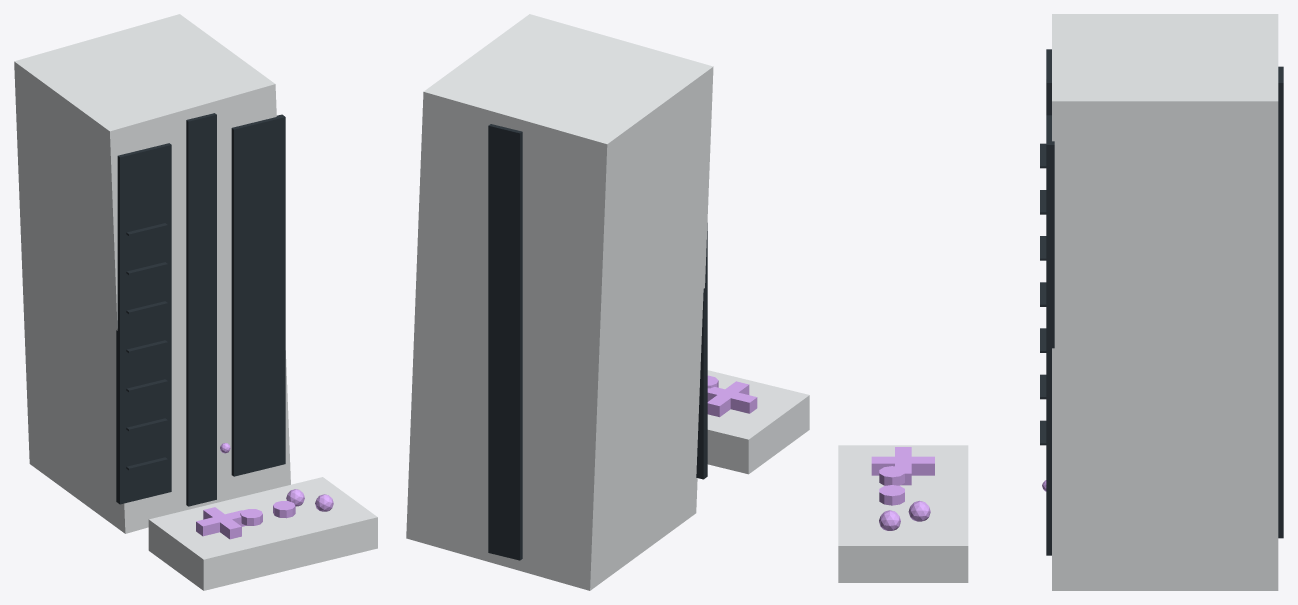
Rendered from current-console-lod0.glb.
The picture shows the model from 3 angles, left to right: view 1: azimuth 30°, elevation 25°; view 2: azimuth 150°, elevation 25°; view 3: azimuth 270°, elevation 25°; orthographic projection. The views are drawn at different scales.
Parts seen in each view (by area): view 1: console, vent_right, vent_left, controller_body, center_spine, controller_dpad_h, controller_dpad_v; view 2: console, center_spine, controller_body, vent_left, controller_dpad_h, controller_dpad_v; view 3: console, controller_body, vent_right, center_spine, controller_dpad_v.
Boxes of the visible parts, x1=… form: console: x1=14, y1=14, x2=290, y2=533; vent_right: x1=231, y1=114, x2=285, y2=476; vent_left: x1=116, y1=143, x2=171, y2=504; controller_body: x1=148, y1=477, x2=377, y2=590; center_spine: x1=186, y1=113, x2=216, y2=506; controller_dpad_h: x1=196, y1=510, x2=246, y2=536; controller_dpad_v: x1=203, y1=507, x2=241, y2=539; console: x1=406, y1=14, x2=713, y2=590; center_spine: x1=488, y1=124, x2=522, y2=560; controller_body: x1=707, y1=370, x2=809, y2=474; vent_left: x1=696, y1=223, x2=707, y2=479; controller_dpad_h: x1=707, y1=387, x2=757, y2=413; controller_dpad_v: x1=707, y1=381, x2=749, y2=417; console: x1=1052, y1=14, x2=1278, y2=590; controller_body: x1=838, y1=445, x2=968, y2=582; vent_right: x1=1046, y1=115, x2=1054, y2=555; center_spine: x1=1046, y1=66, x2=1283, y2=538; controller_dpad_v: x1=871, y1=456, x2=934, y2=475.
Bounding box in the file's own units: 3.5 × 7.62 × 6.29.
